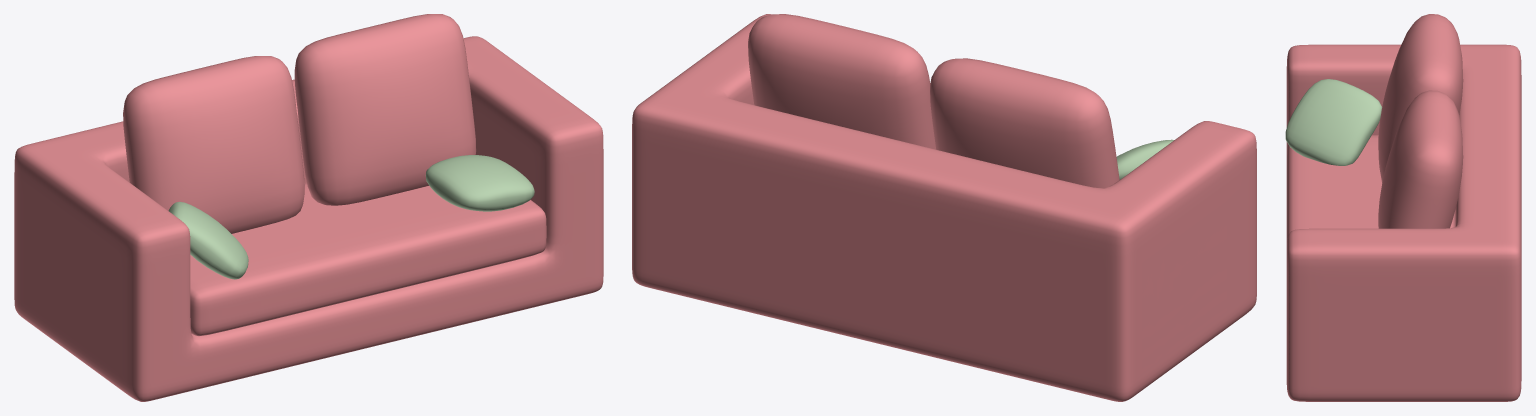
File: sofa04.fbx
3 views of the same model, side by side, from view 1: azimuth 30°, elevation 25°; view 2: azimuth 150°, elevation 25°; view 3: azimuth 270°, elevation 25° (orthographic). The views are drawn at different scales.
Parts seen in each view (by area): view 1: sofa, cushion.001, cushion, pillow.001, pillow; view 2: sofa, cushion, cushion.001, pillow; view 3: sofa, cushion.001, cushion, pillow.
Boxes of the visible parts, x1=… form: sofa: x1=14, y1=36, x2=603, y2=401; cushion.001: x1=294, y1=14, x2=476, y2=205; cushion: x1=123, y1=56, x2=304, y2=233; pillow.001: x1=425, y1=155, x2=534, y2=211; pillow: x1=168, y1=201, x2=248, y2=279; sofa: x1=632, y1=14, x2=1256, y2=401; cushion: x1=930, y1=58, x2=1119, y2=187; cushion.001: x1=748, y1=14, x2=936, y2=149; pillow: x1=1116, y1=139, x2=1173, y2=179; sofa: x1=1286, y1=44, x2=1521, y2=401; cushion.001: x1=1378, y1=90, x2=1463, y2=228; cushion: x1=1378, y1=14, x2=1463, y2=183; pillow: x1=1285, y1=79, x2=1382, y2=165.
Bounding box in the file's own units: 392 × 194 × 187.
